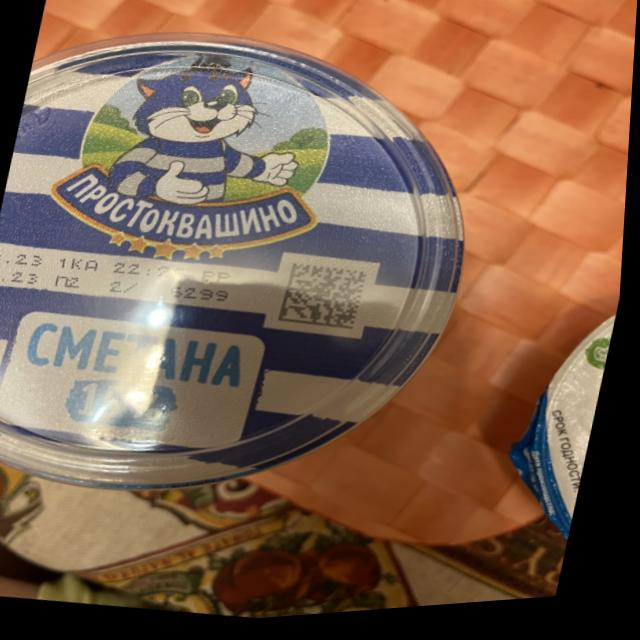datamatrix: (281, 264, 374, 342)
